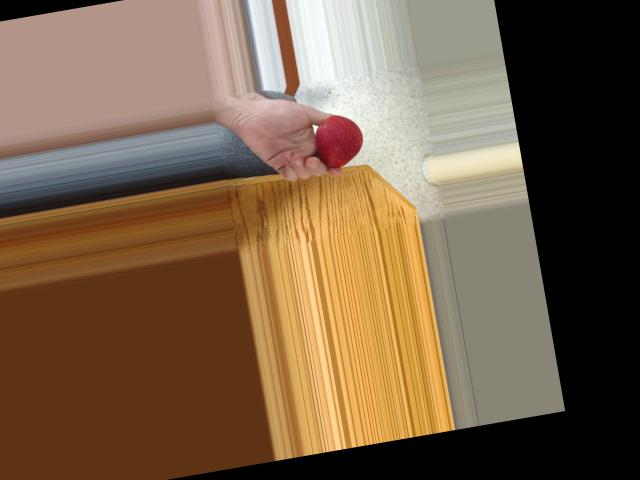apple: (305, 107, 368, 171)
